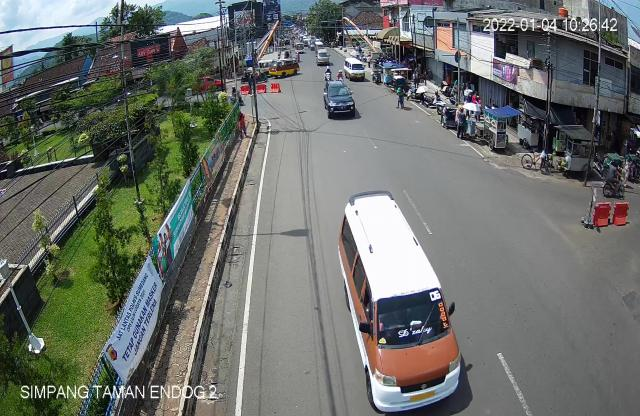Mobil: (334, 189, 474, 416), (320, 79, 360, 128)
